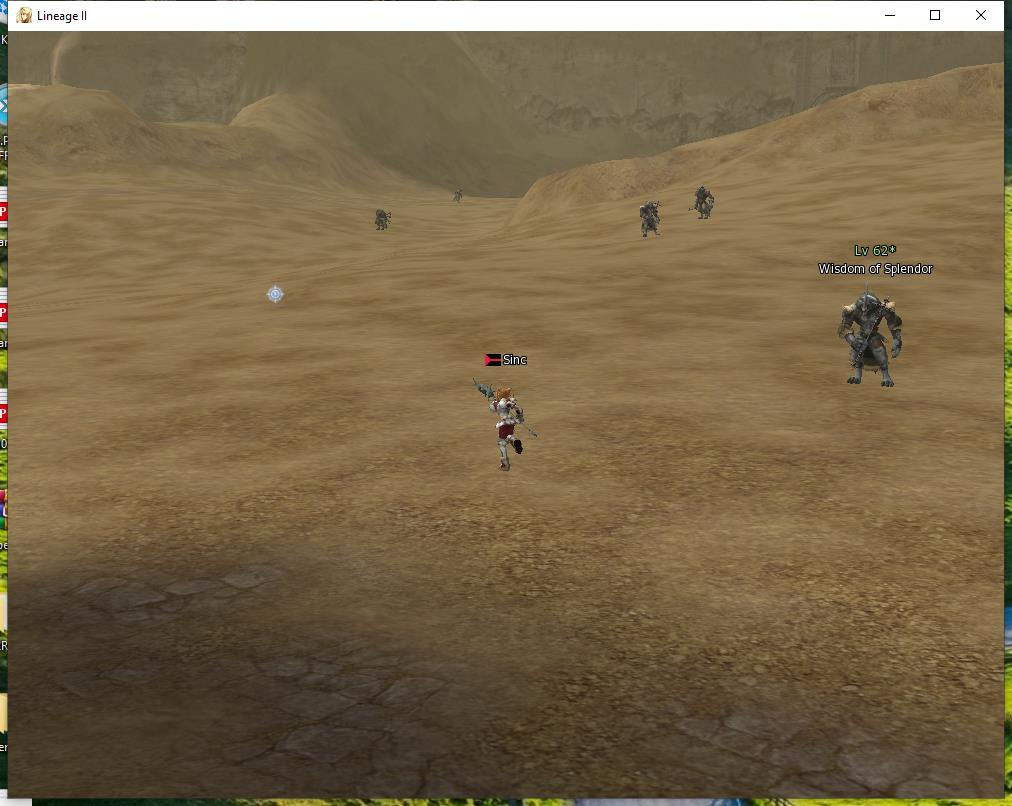monster: (823, 226, 938, 384), (687, 176, 719, 228), (635, 193, 667, 241), (367, 202, 400, 248), (444, 186, 467, 211)
